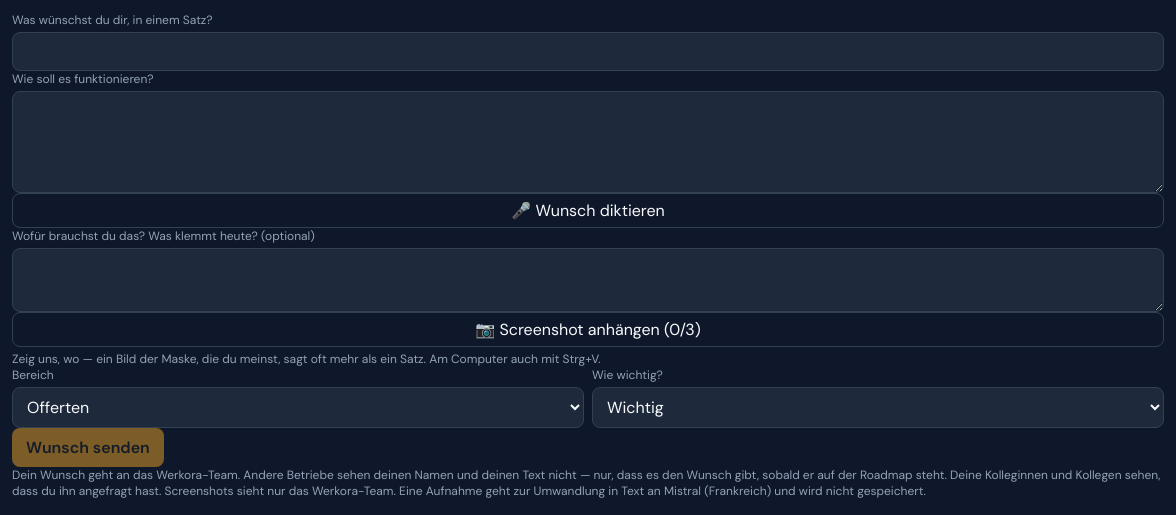
Test: WishForm › reicht ein und quittiert mit der Nummer; Bereich aus dem Screen vorbelegt
The image size is (1176, 515).
Type "Neu" into the field labelled "Was wünschst du dir, in einem Satz?". click: (588, 52)
box: [12,32,1164,71]
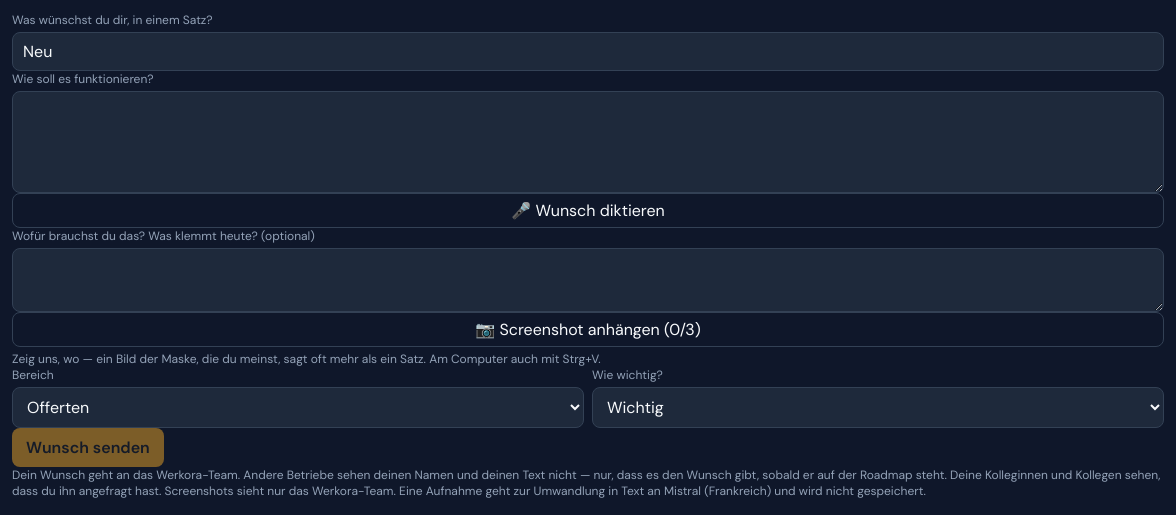
Type "So und so" into the text box labelled "Wie soll es funktionieren?". click: (588, 142)
box: [12,91,1164,193]
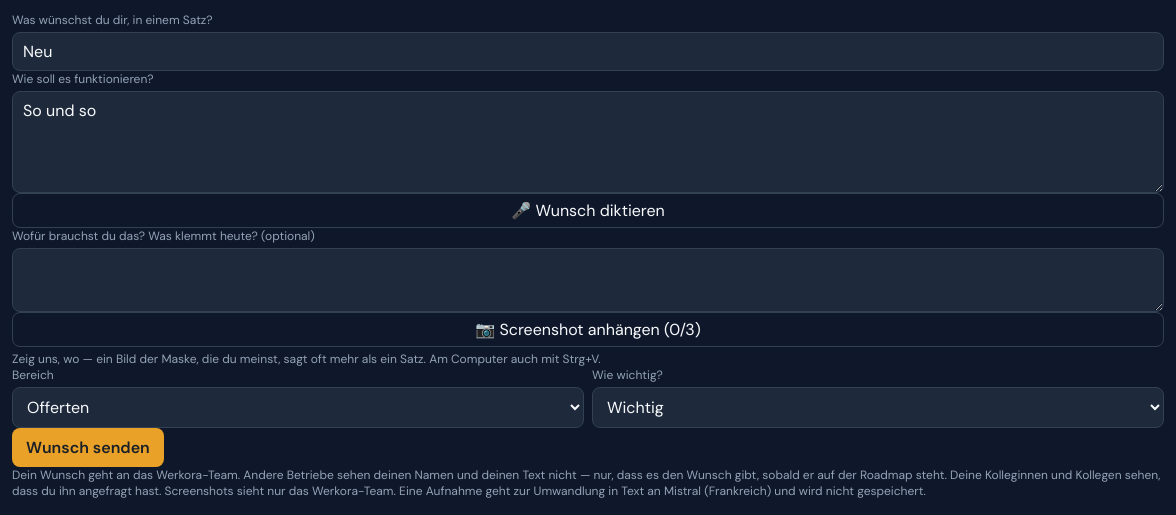
Click the button "Wunsch senden". click: click(88, 448)
box: [12,428,164,467]
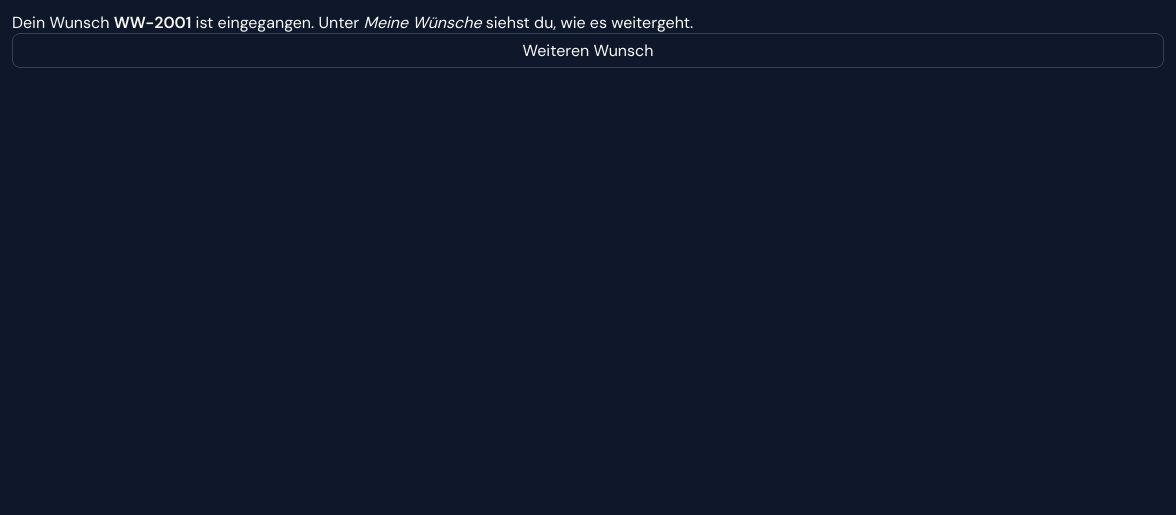
Now the text "WW-2001" is shown, box [114,12,191,33]
